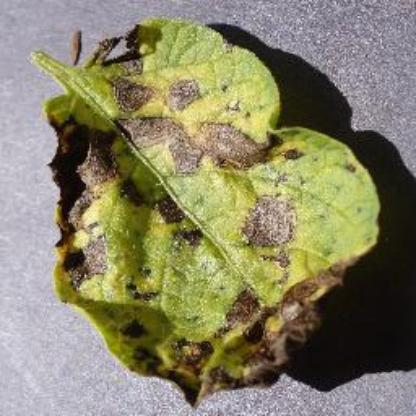Early-Blight: (15, 11, 409, 411)
